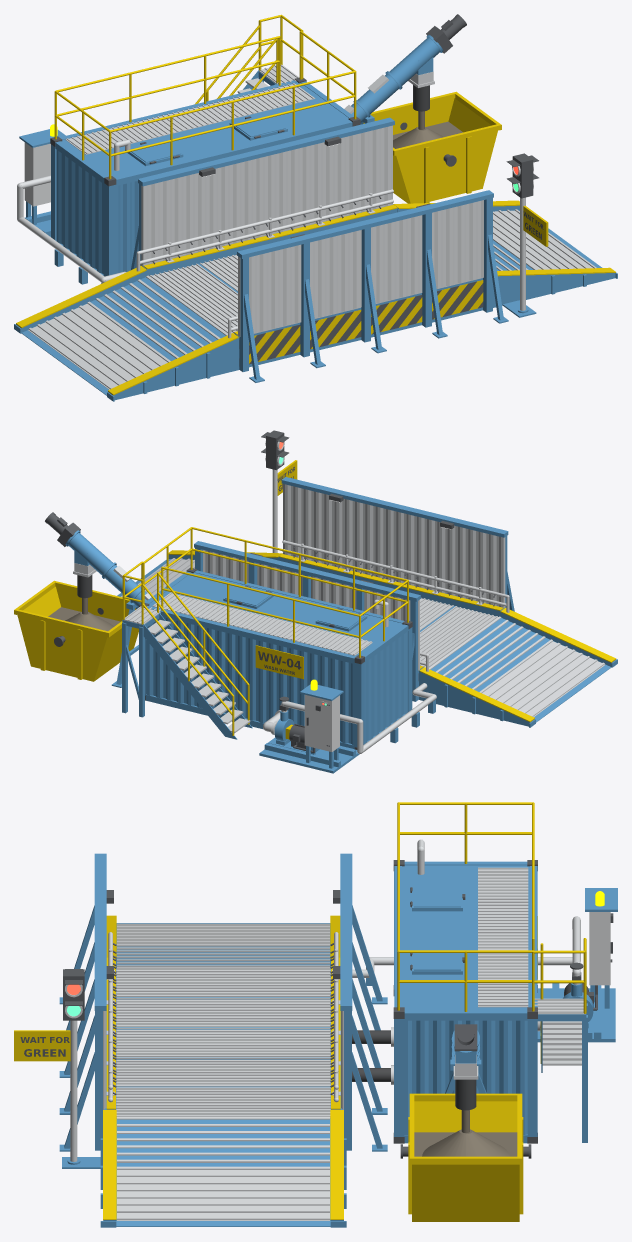
The model's file is Drive_Through_Wheel_Wash.glb.
3 views of the same model, one above another, from view 1: azimuth 30°, elevation 25°; view 2: azimuth 150°, elevation 25°; view 3: azimuth 270°, elevation 25° (orthographic). The views are drawn at different scales.
Visible parts, largest first — view 1: deck_grating, bath_sides, kerb_caps, hazard_stripes, control_cabinet, sludge; view 2: bath_sides, deck_grating, kerb_caps, hazard_stripes, control_cabinet, sludge; view 3: deck_grating, bath_sides, kerb_caps, hazard_stripes, sludge, control_cabinet, discharge_sock.
Part boxes in pixels (x1,y1,x2,y2): deck_grating: (17,64,596,389); bath_sides: (14,34,617,401); kerb_caps: (16,14,615,395); hazard_stripes: (50,14,543,366); control_cabinet: (24,142,50,206); sludge: (393,111,462,148); bath_sides: (65,477,617,773); deck_grating: (73,441,605,753); kerb_caps: (14,460,616,739); hazard_stripes: (45,430,495,753); control_cabinet: (304,694,339,751); sludge: (48,598,120,631); deck_grating: (65,839,585,1220); bath_sides: (59,853,617,1227); kerb_caps: (14,802,586,1221); hazard_stripes: (20,860,613,1158); sludge: (414,1110,517,1156); control_cabinet: (589,912,610,985); discharge_sock: (352,1030,476,1110).
Size of the model in its own units: 245 by 72.48 by 202.
